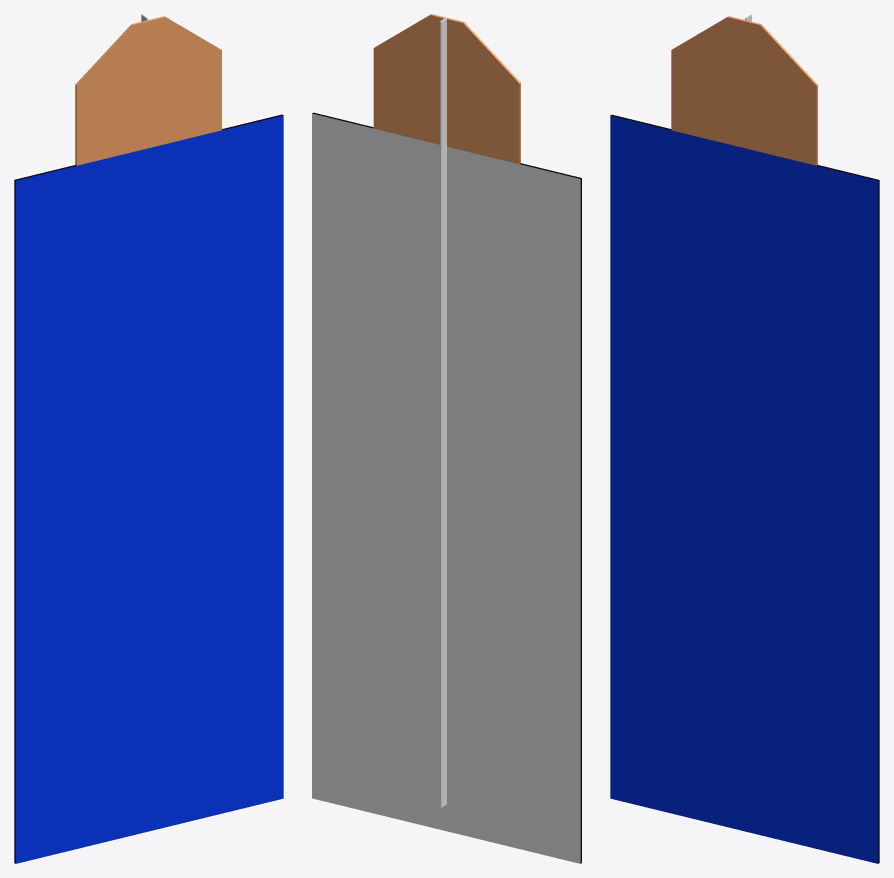
Rendered from Aura_SolarArray.obj.
The picture shows the model from 3 angles, left to right: view 1: azimuth 30°, elevation 25°; view 2: azimuth 150°, elevation 25°; view 3: azimuth 330°, elevation 25°; orthographic projection.
Visible parts, largest first — view 1: Solar Array_SOLAR_CELL, Solar Array_GOLD_KAPTON, Solar Array_FLAT_BLACK; view 2: Solar Array_FLAT_WHITE, Solar Array_GOLD_KAPTON, Solar Array_FLAT_BLACK; view 3: Solar Array_SOLAR_CELL, Solar Array_GOLD_KAPTON, Solar Array_FLAT_BLACK.
Boxes of the visible parts, left/top/right/bottom form: Solar Array_SOLAR_CELL: left=15, top=115, right=283, bottom=863; Solar Array_GOLD_KAPTON: left=75, top=16, right=221, bottom=165; Solar Array_FLAT_BLACK: left=14, top=114, right=283, bottom=863; Solar Array_FLAT_WHITE: left=312, top=17, right=580, bottom=863; Solar Array_GOLD_KAPTON: left=373, top=14, right=520, bottom=163; Solar Array_FLAT_BLACK: left=312, top=112, right=581, bottom=863; Solar Array_SOLAR_CELL: left=610, top=115, right=878, bottom=863; Solar Array_GOLD_KAPTON: left=671, top=16, right=817, bottom=165; Solar Array_FLAT_BLACK: left=610, top=114, right=879, bottom=863.
Size of the model in its own units: 5.72 by 16.56 by 0.2747.
